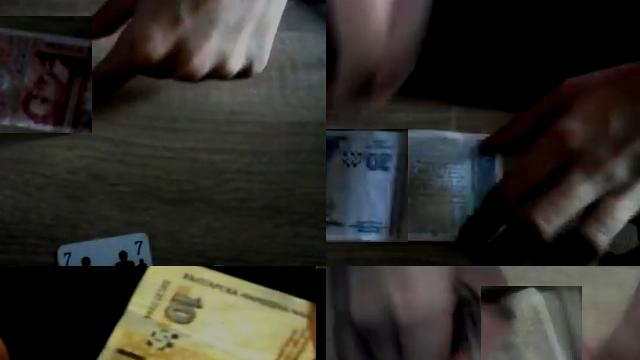10leva: (95, 266, 315, 360), (484, 286, 572, 360)
20leva: (326, 129, 408, 242)
5leva: (0, 23, 92, 133)
